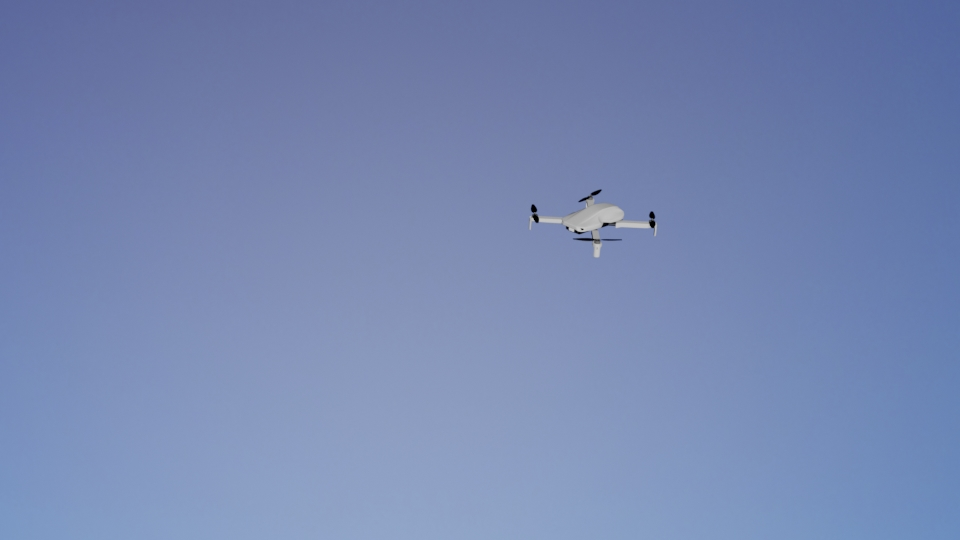drone: (528, 187, 660, 258)
